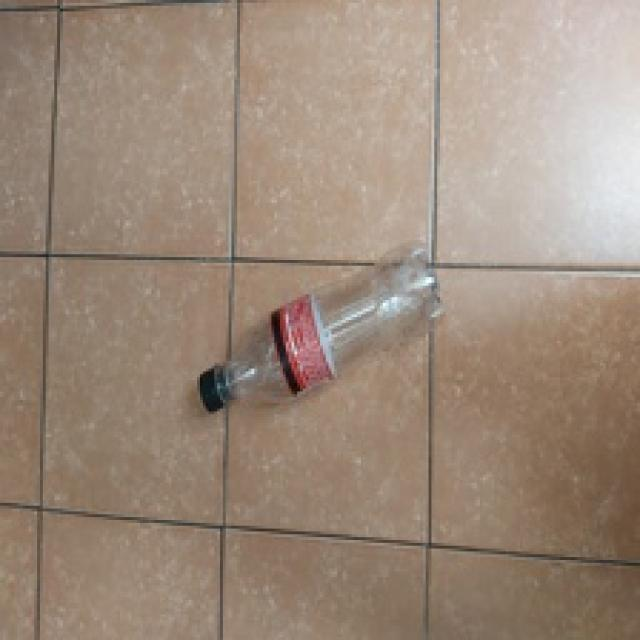garbage: (182, 261, 475, 427)
